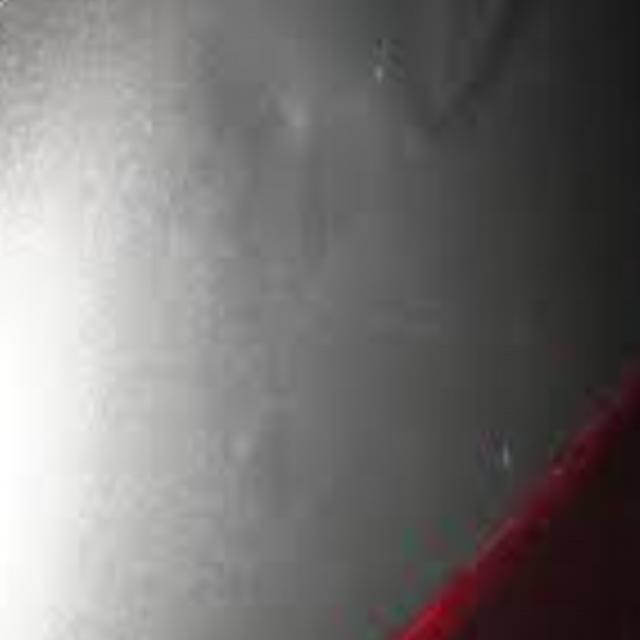dents: (209, 58, 402, 218)
